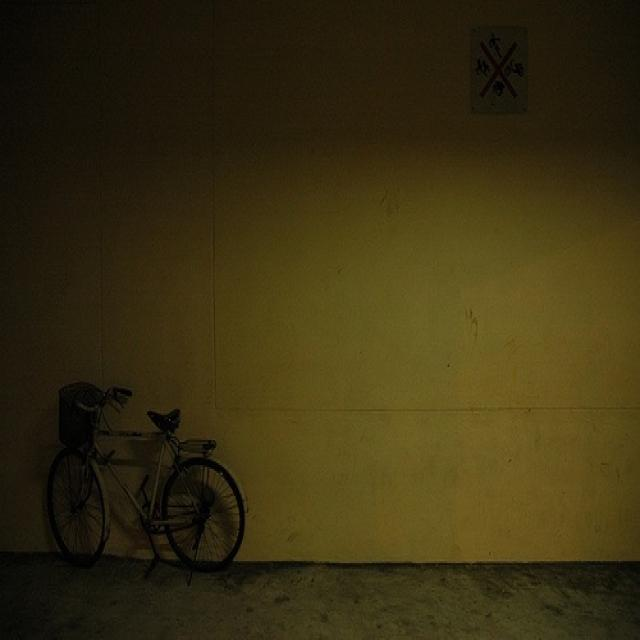Bicycle: (37, 326, 263, 629)
